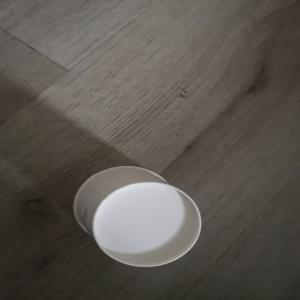Cup: (72, 165, 205, 269)
